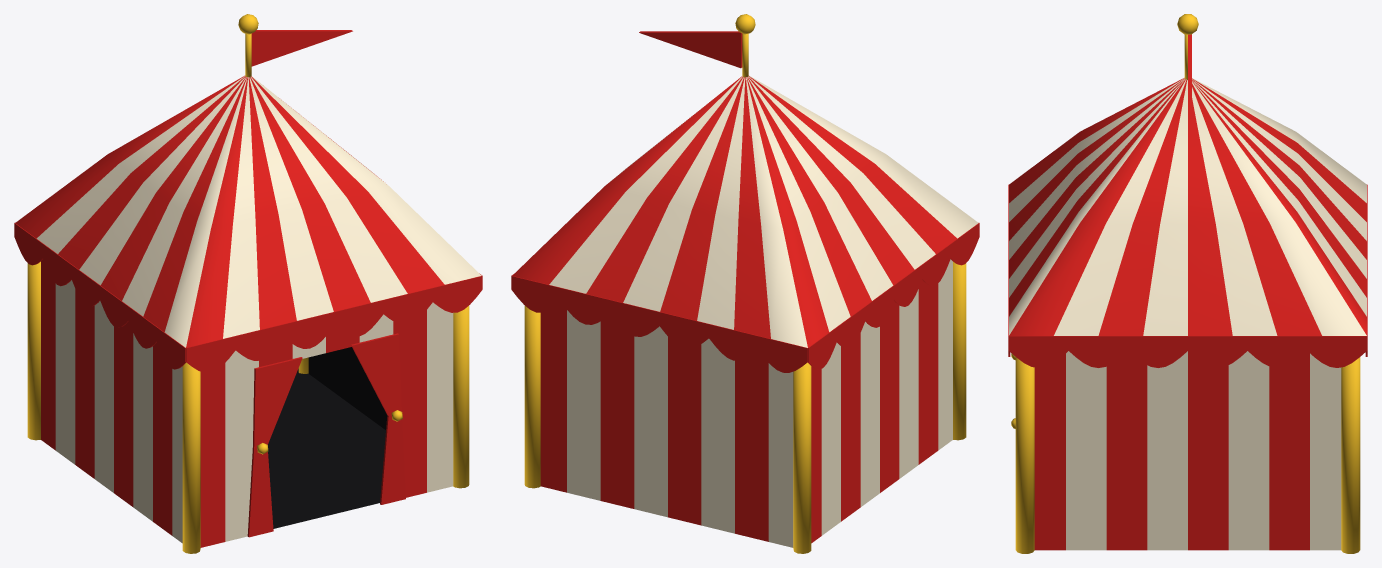
Rendered from Tent.fbx.
The picture shows the model from 3 angles, left to right: view 1: azimuth 30°, elevation 25°; view 2: azimuth 150°, elevation 25°; view 3: azimuth 270°, elevation 25°; orthographic projection. The views are drawn at different scales.
Visible parts, largest first — view 1: Tent_Roof, Tent_Walls, Tent_Interior, Tent_Valance, Tent_GoldDetails, Tent_Curtains, Tent_Flag; view 2: Tent_Walls, Tent_Roof, Tent_Valance, Tent_GoldDetails, Tent_Flag; view 3: Tent_Roof, Tent_Walls, Tent_Valance, Tent_GoldDetails.
Boxes of the visible parts, x1,y1,x2,y2 form: Tent_Roof: (15,75,481,347); Tent_Walls: (41,259,453,547); Tent_Interior: (268,347,387,528); Tent_Valance: (14,223,482,372); Tent_GoldDetails: (27,14,469,553); Tent_Curtains: (247,333,405,537); Tent_Flag: (251,30,352,66); Tent_Walls: (540,259,952,547); Tent_Roof: (512,75,978,347); Tent_Valance: (511,223,979,372); Tent_GoldDetails: (524,14,966,553); Tent_Flag: (639,31,742,68); Tent_Roof: (1009,78,1366,335); Tent_Walls: (1034,351,1341,550); Tent_Valance: (1008,184,1367,367); Tent_GoldDetails: (1011,14,1360,553).
Size of the model in its own units: 265 by 380 by 265.
